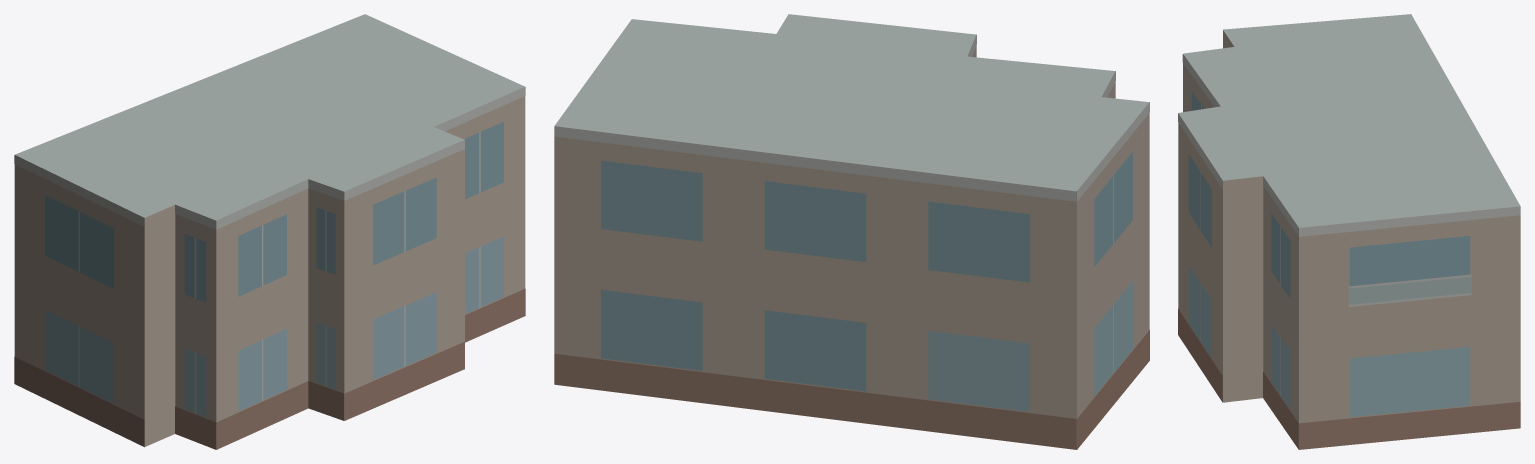
The model's file is survey-upis-32965106.glb.
The picture shows the model from 3 angles, left to right: view 1: azimuth 30°, elevation 25°; view 2: azimuth 150°, elevation 25°; view 3: azimuth 270°, elevation 25°; orthographic projection. The views are drawn at different scales.
Parts seen in each view (by area): view 1: survey-upis-32965106.tmp; view 2: survey-upis-32965106.tmp; view 3: survey-upis-32965106.tmp.
Boxes of the visible parts, x1,y1,x2,y2 form: survey-upis-32965106.tmp: [14, 14, 525, 449]; survey-upis-32965106.tmp: [554, 14, 1149, 449]; survey-upis-32965106.tmp: [1178, 14, 1520, 449].
Bounding box in the file's own units: 12.62 × 6.1 × 8.54.
